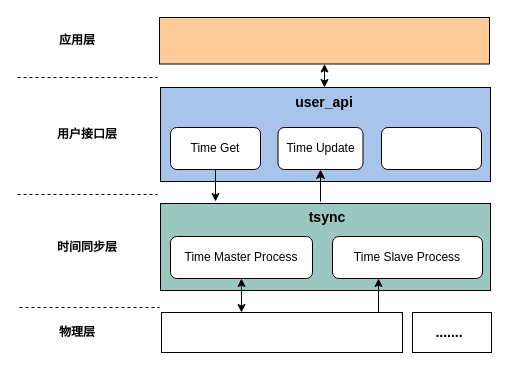
Some shapes in this 509 by 370 pixel diagram are drawn without their labels. Here are the shapes that lost their labels. From the top down, the centre of each, then its label:
At [324,40]: "Application".
At [431,148]: "Time Maintain".
At [281,332]: "CAN".
